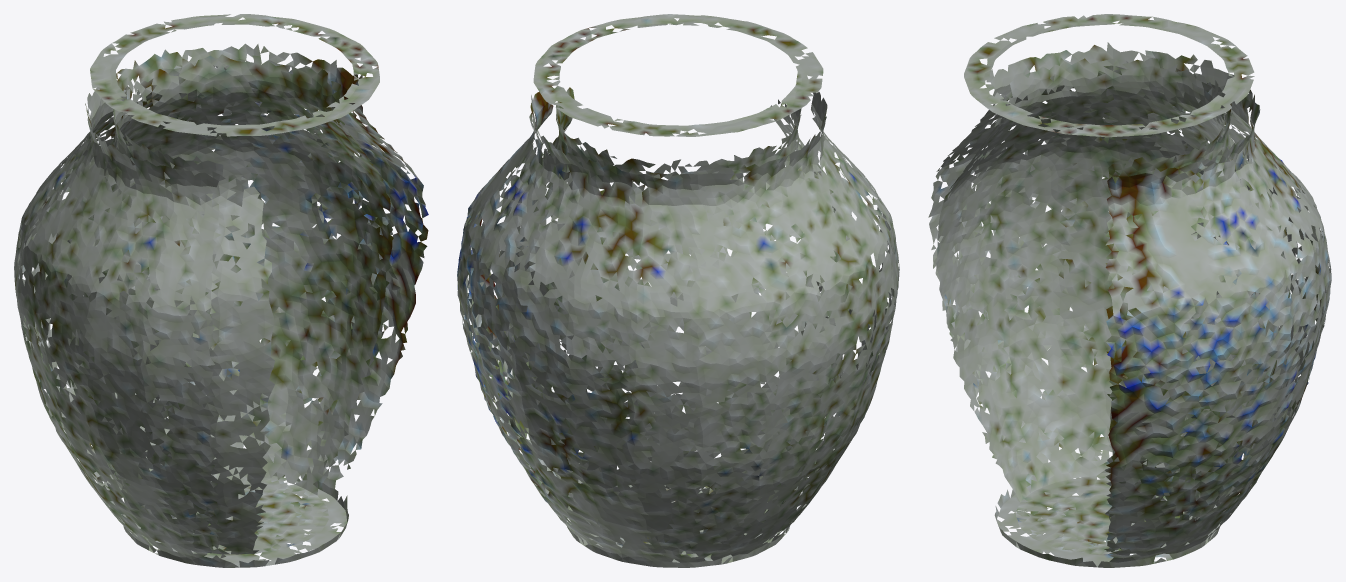
File: vase2_final200.obj
3 renders of one model, left to right at view 1: azimuth 30°, elevation 25°; view 2: azimuth 150°, elevation 25°; view 3: azimuth 270°, elevation 25°, orthographic.
Size of the model in its own units: 1.53 by 1.69 by 1.39.
